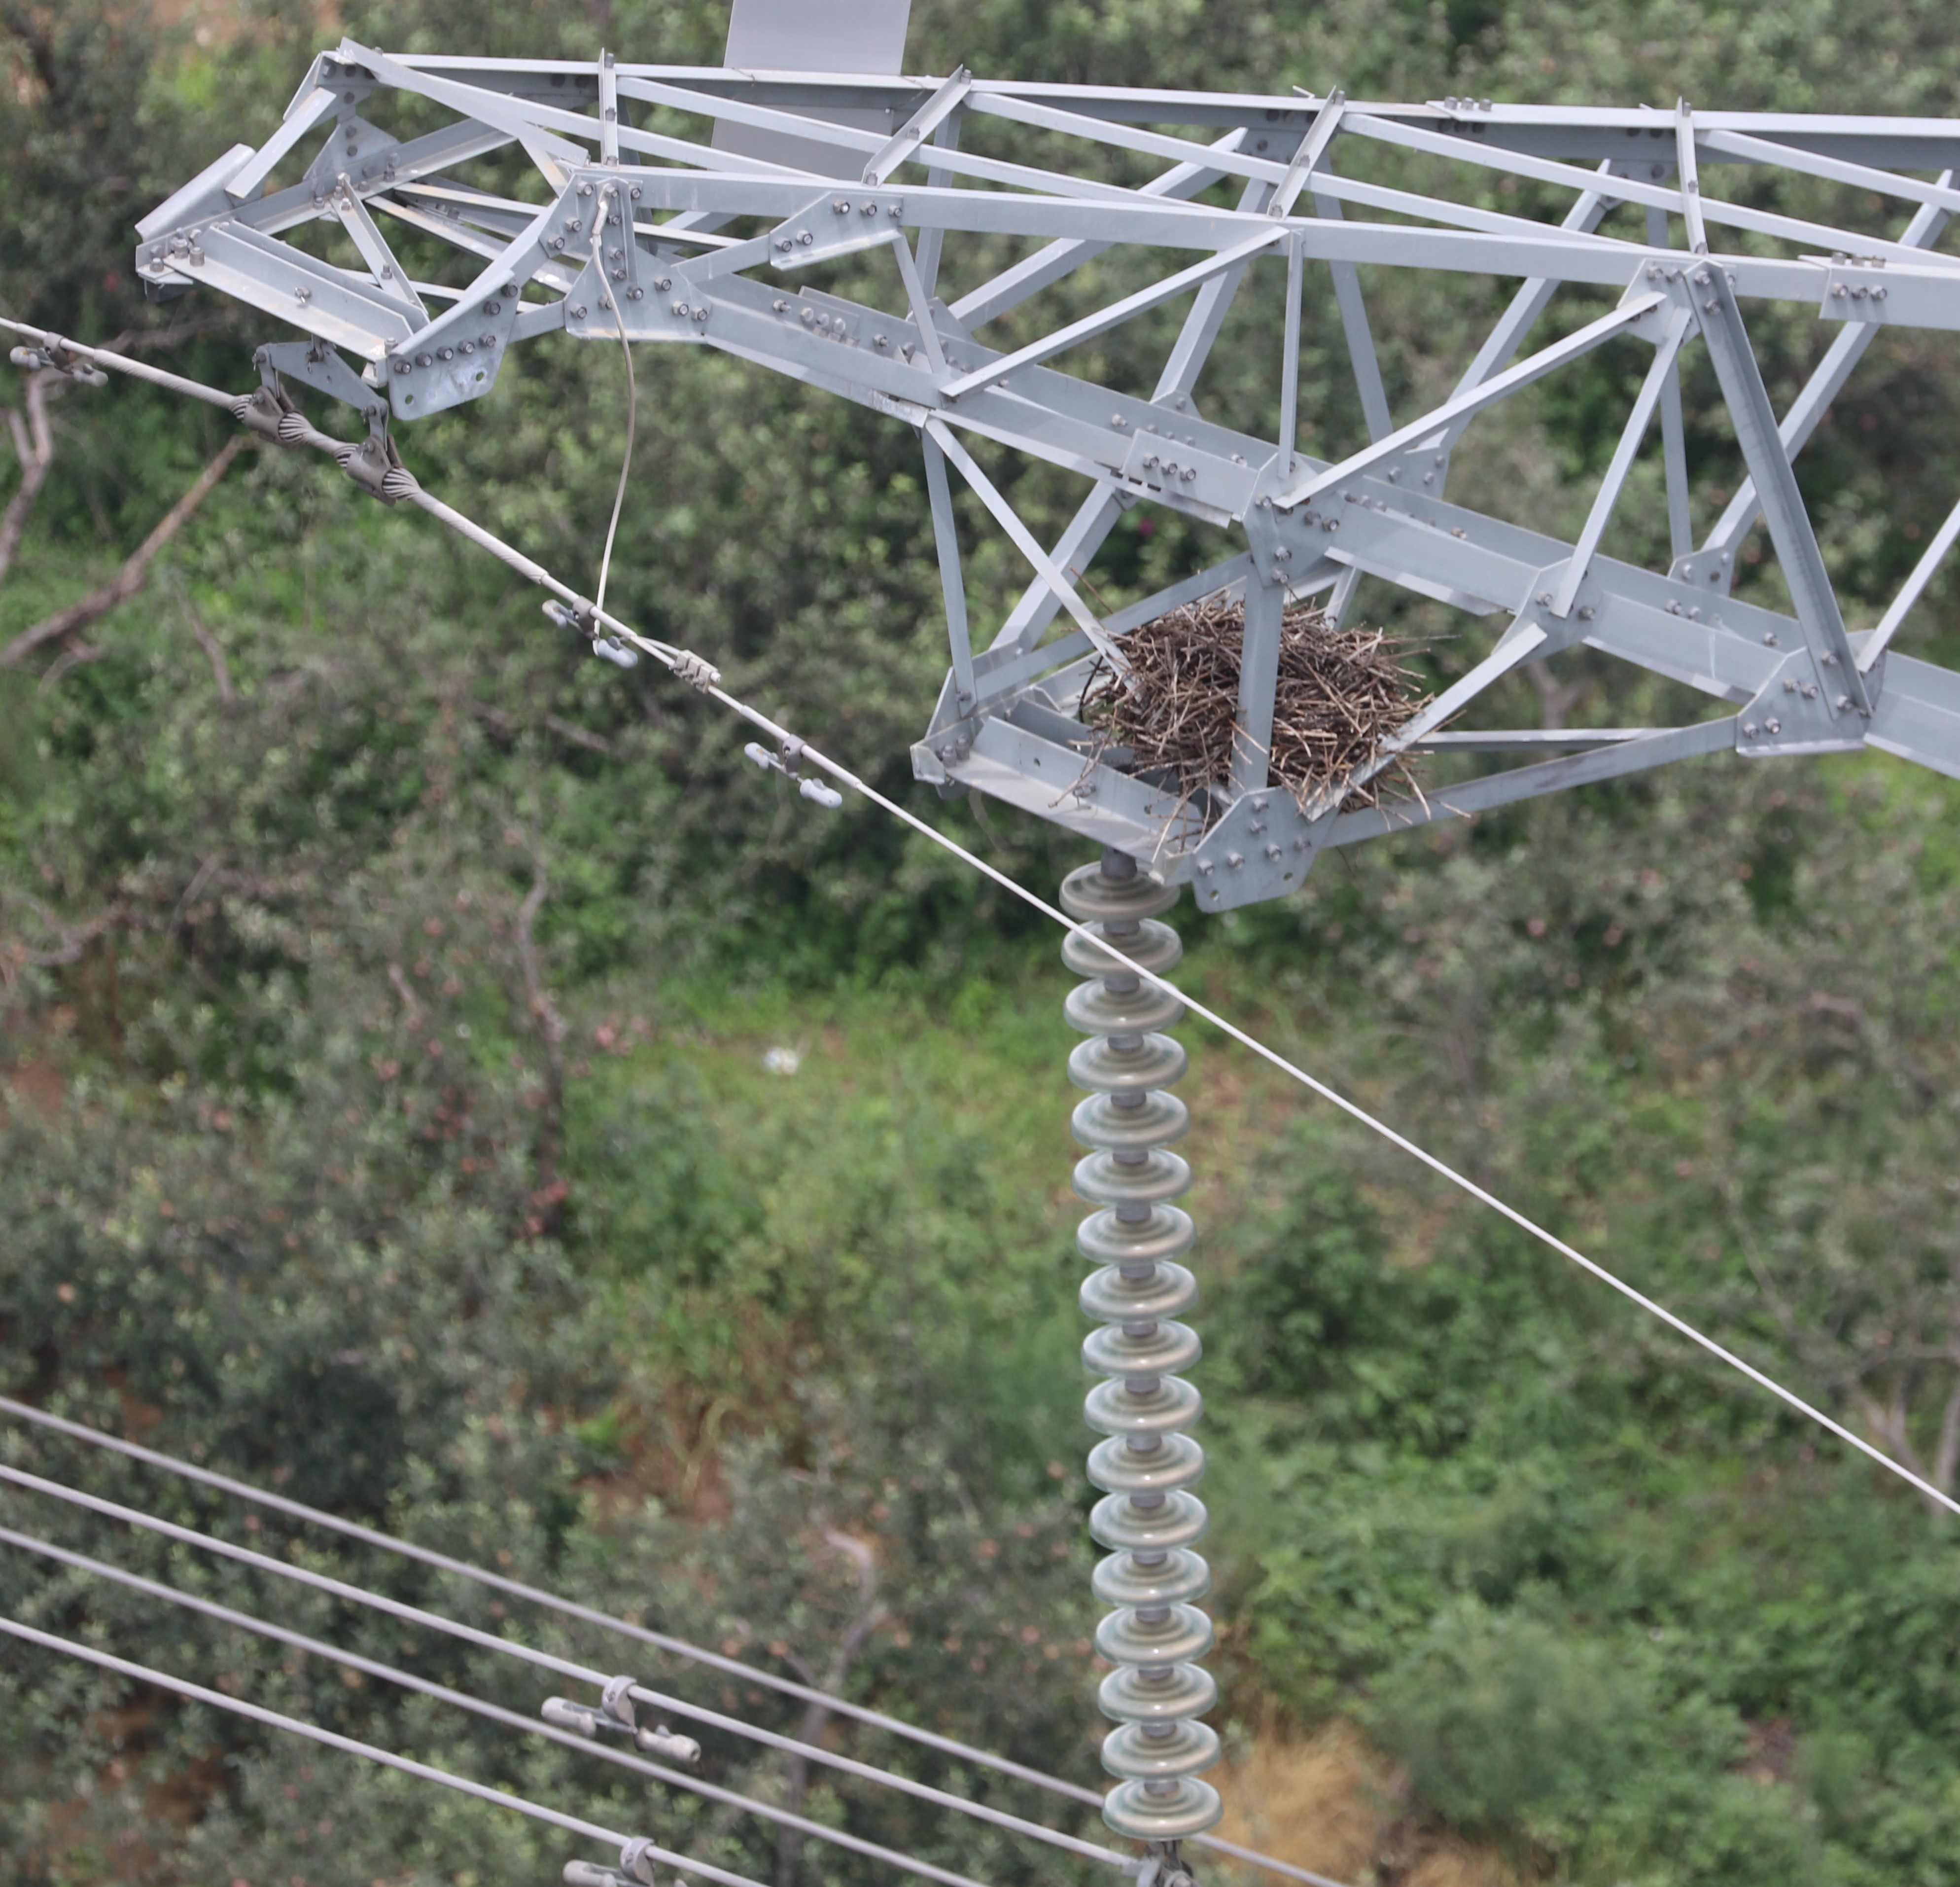niaowo: (1043, 553, 1466, 849)
